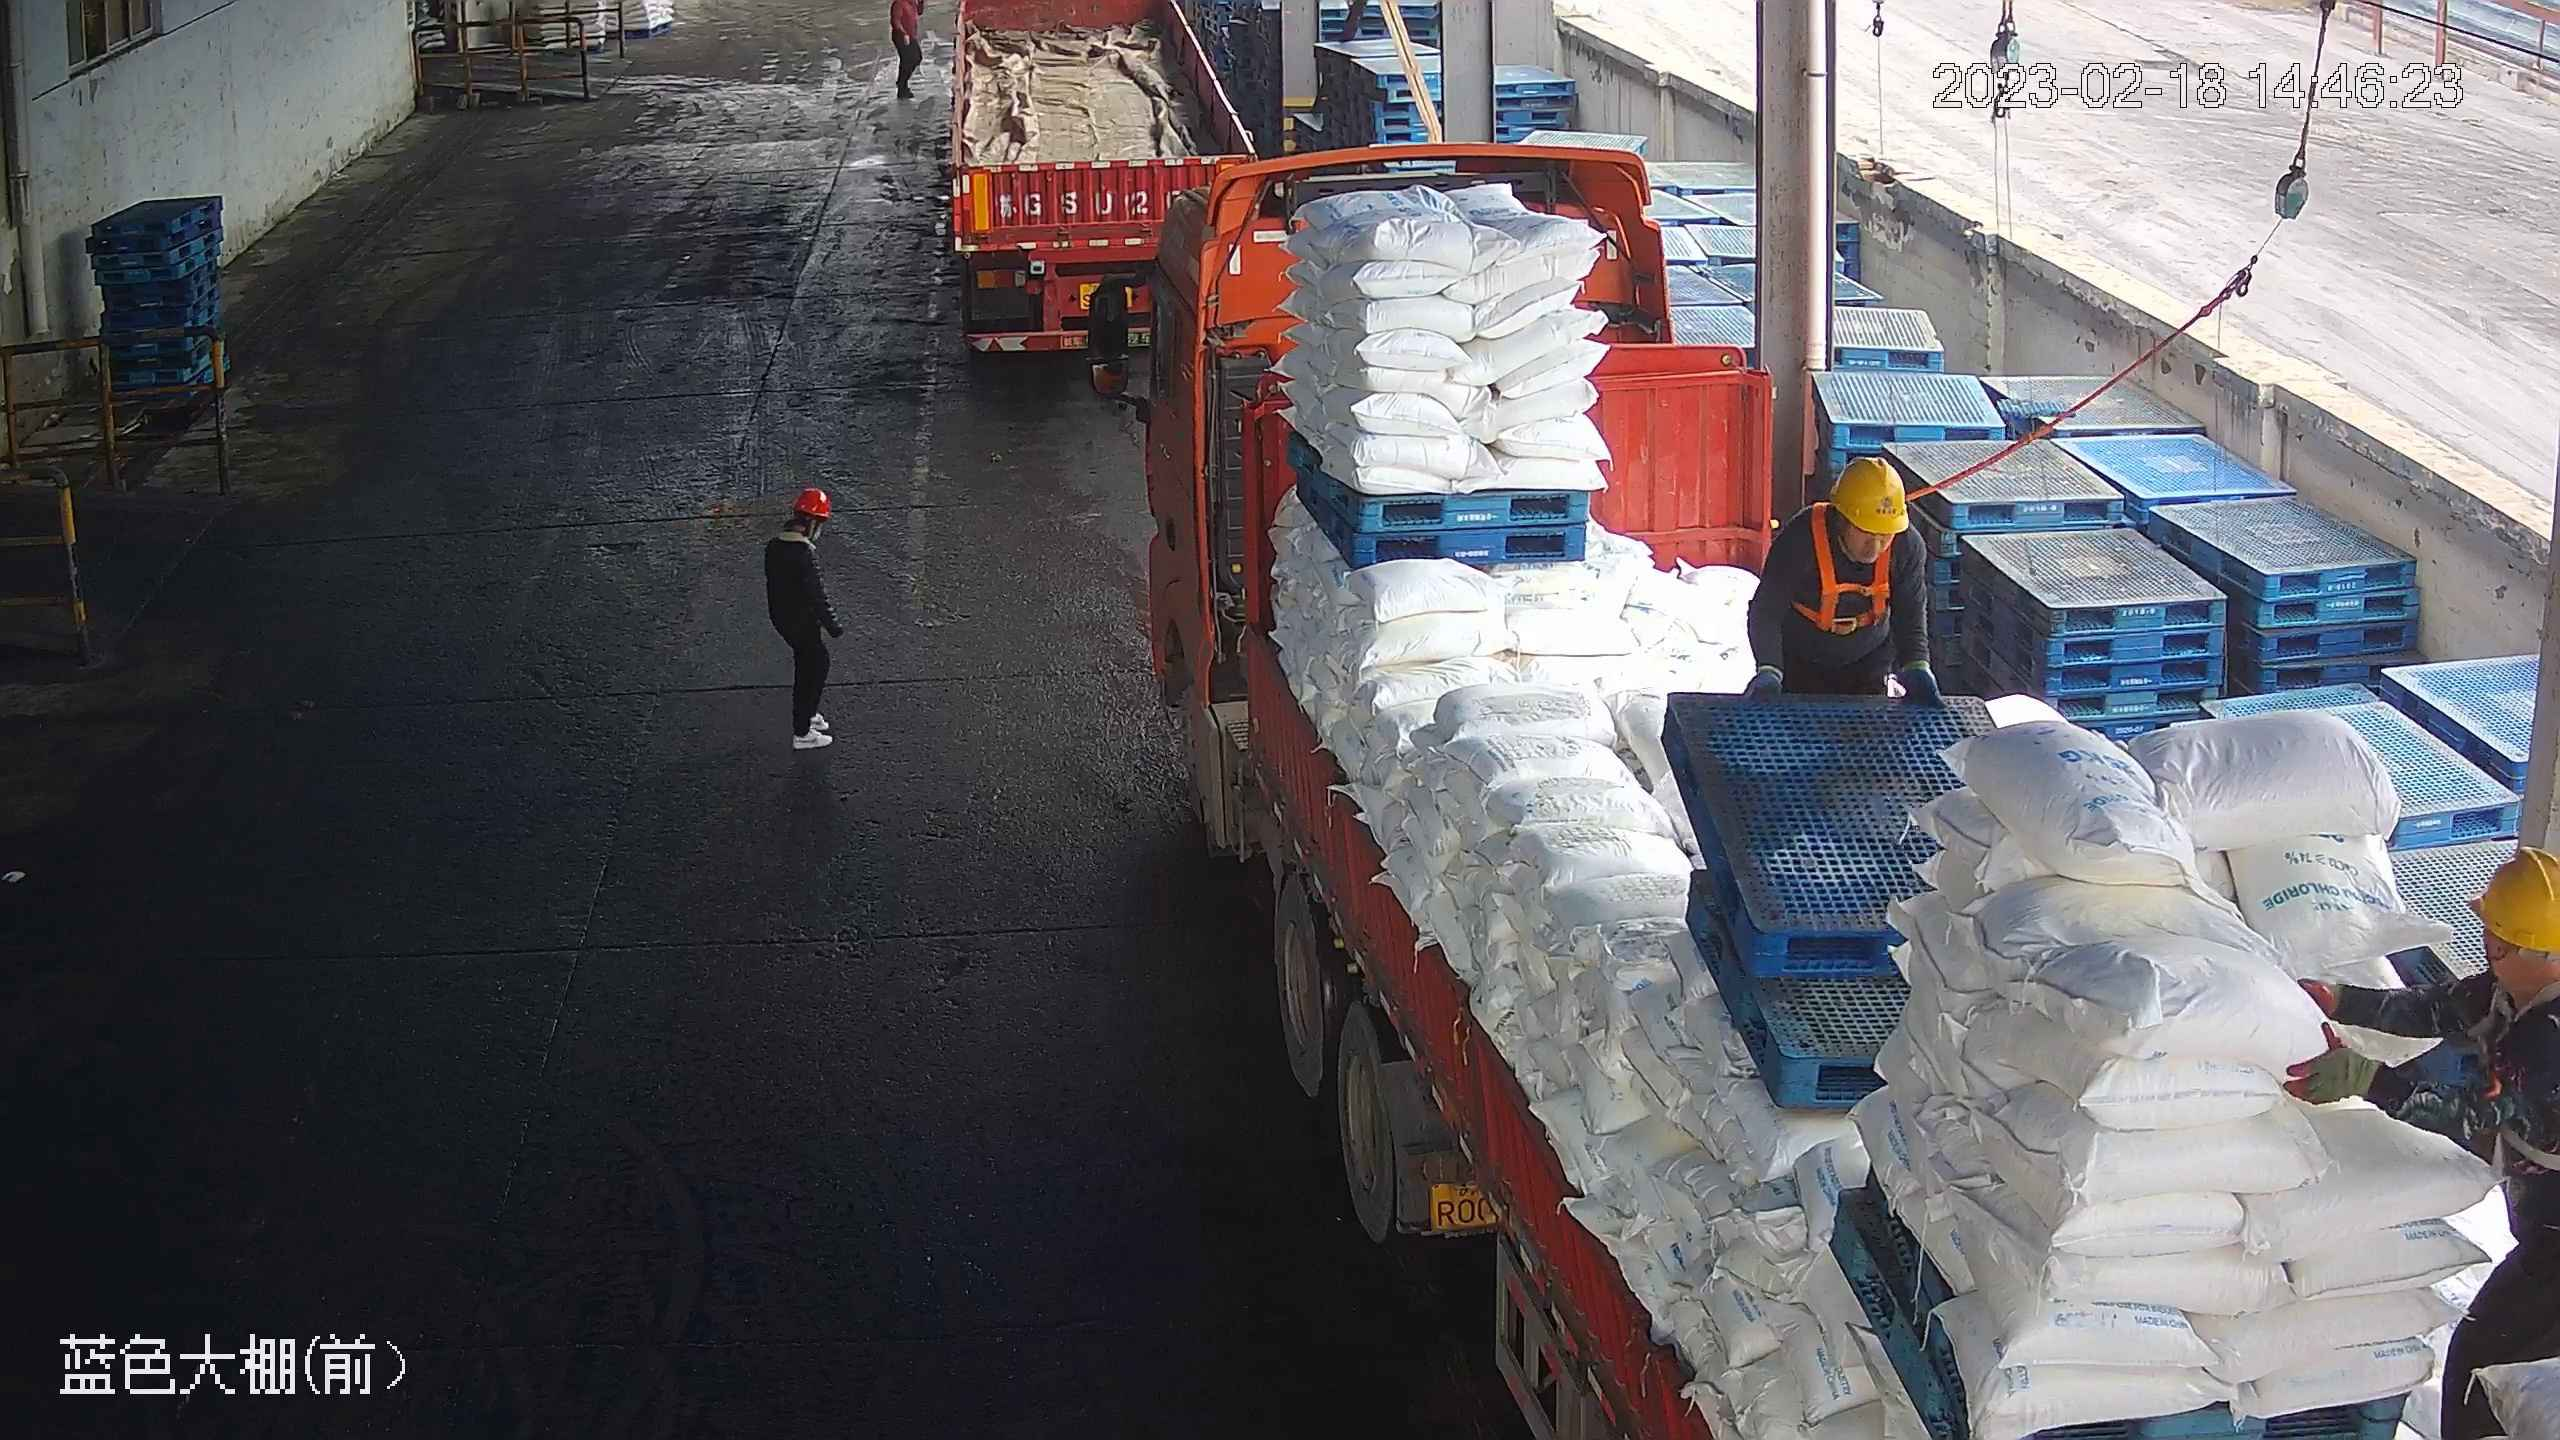belt: (1799, 502, 1905, 642), (2496, 989, 2560, 1174)
head: (2433, 845, 2559, 1113), (1756, 448, 1935, 585), (1826, 449, 1914, 540), (766, 484, 838, 565)
helmet: (2465, 844, 2560, 955), (1828, 450, 1912, 538), (792, 484, 836, 520)
people: (2283, 848, 2559, 1439), (762, 482, 849, 755)
truck: (1083, 143, 2554, 1437), (946, 4, 1265, 355)
